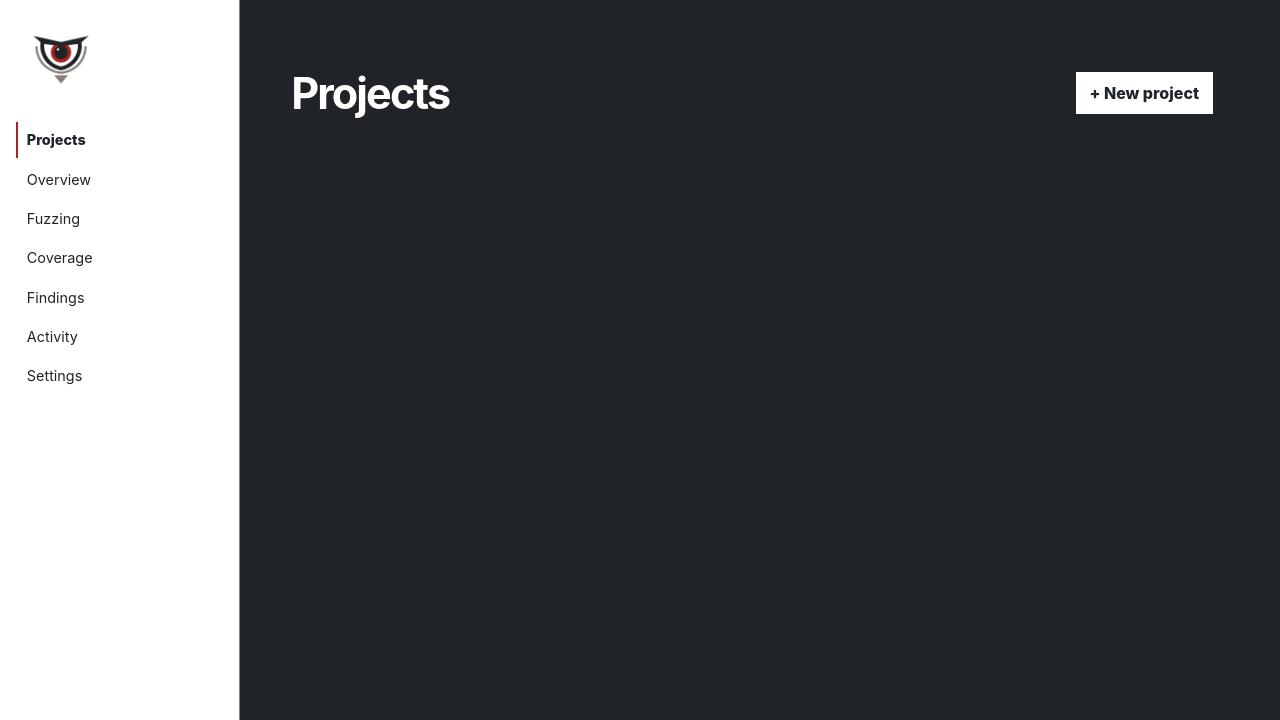
Test: App › submits a valid repository revision and positive worker count, then opens overview
Click the button "+ New project" at coordinates (1144, 93), box [1076,72,1213,114]
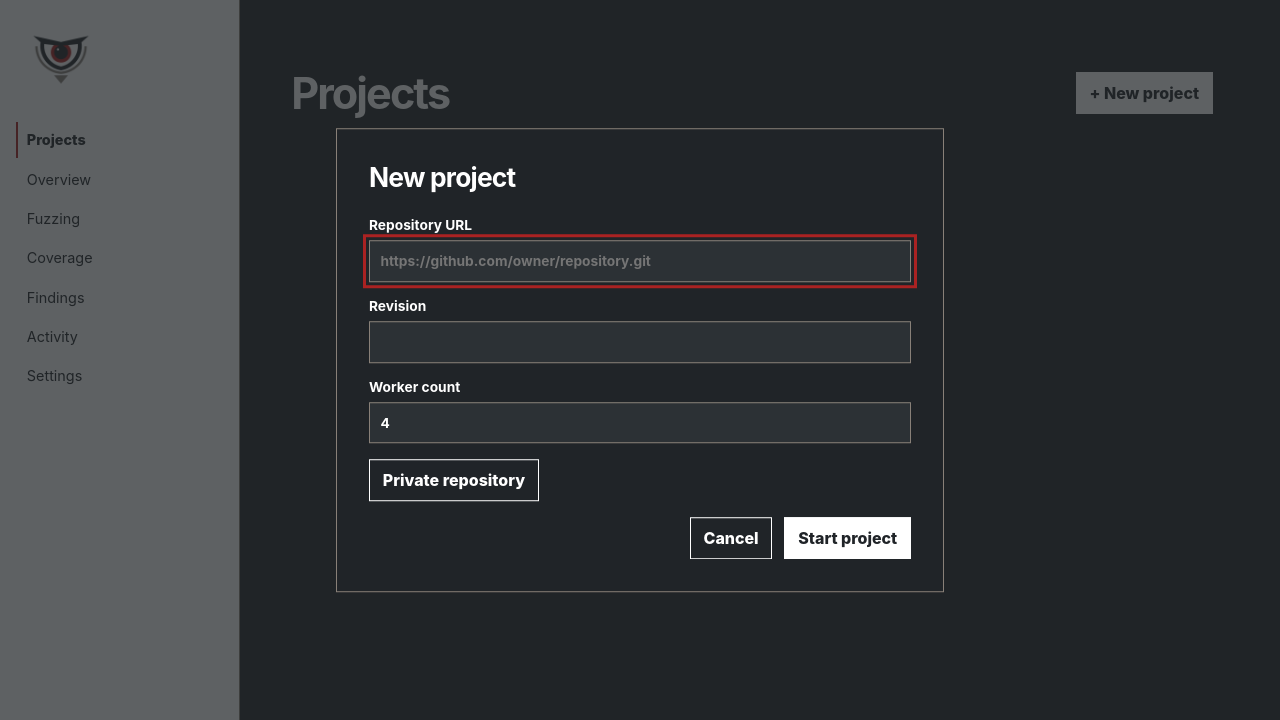
Type "https://github.com/example/target.git" into the field labelled "Repository URL" at coordinates (640, 261), box [369,240,911,282]
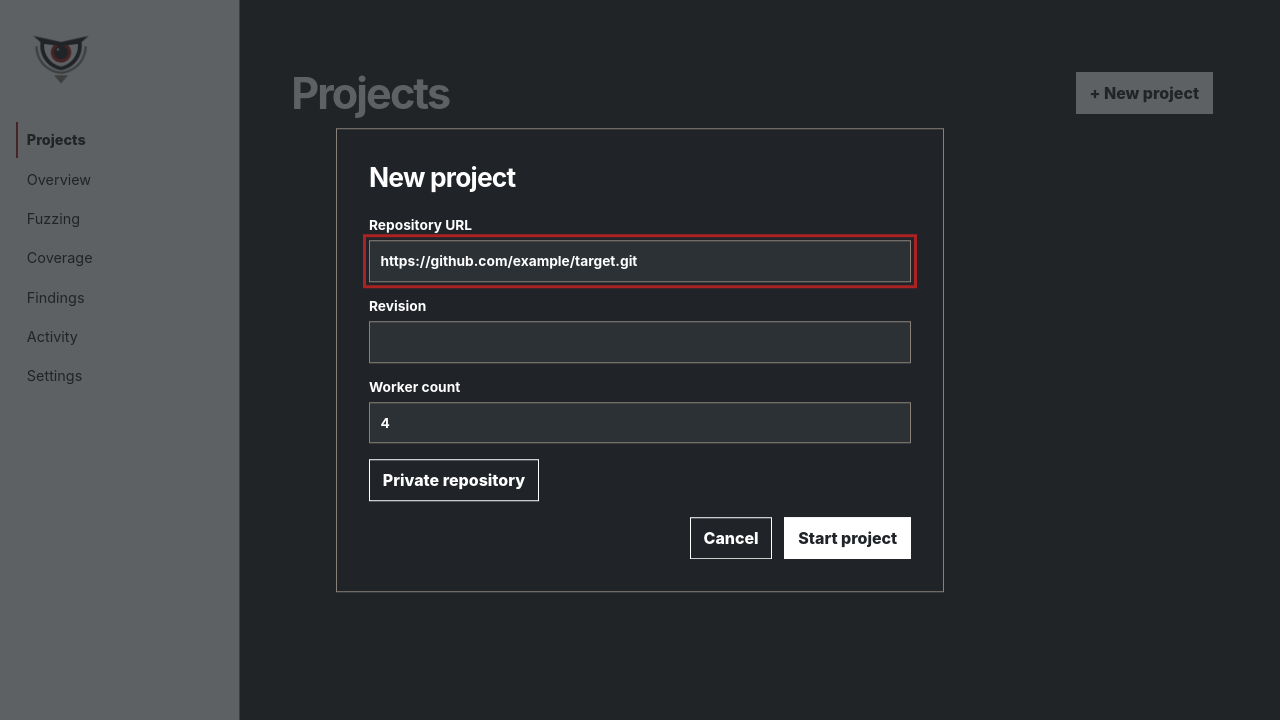
Type "stable" into the field labelled "Revision" at coordinates (640, 342), box [369,321,911,363]
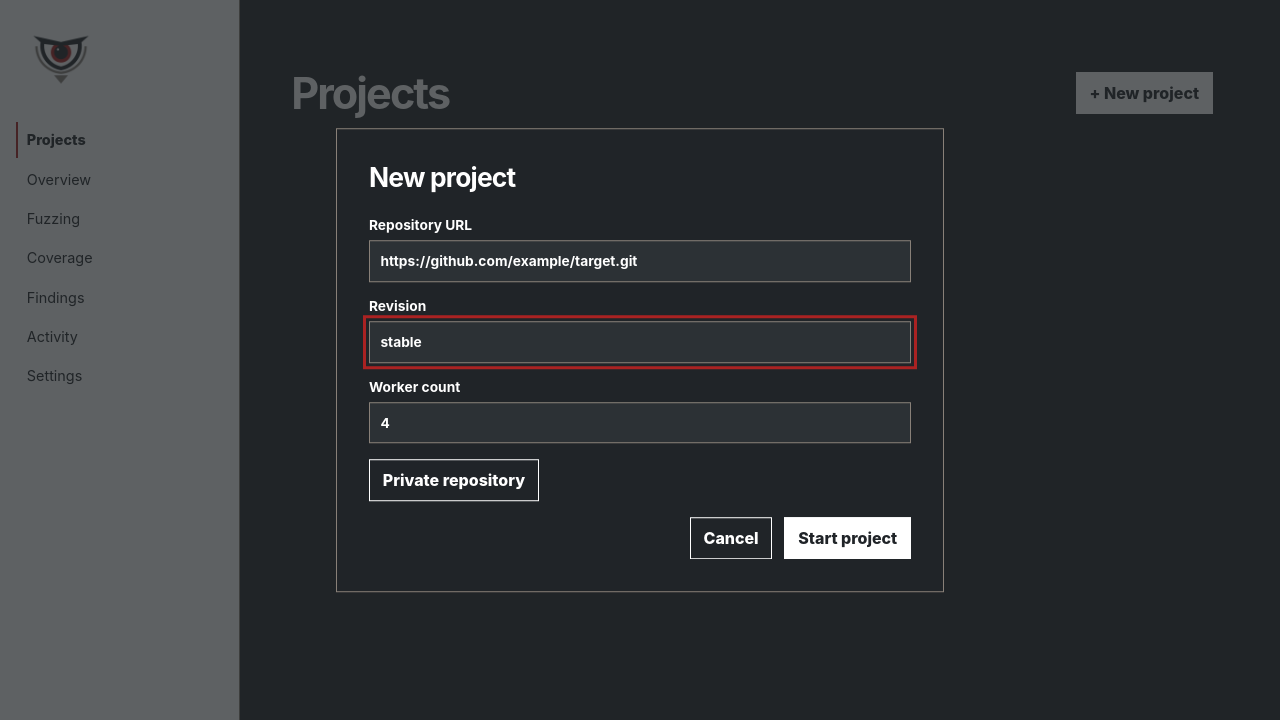
Now the number field labelled "Worker count" holds "4", box [369,402,911,444]
Click the button "Start project" at coordinates (848, 538), box [784,517,911,559]
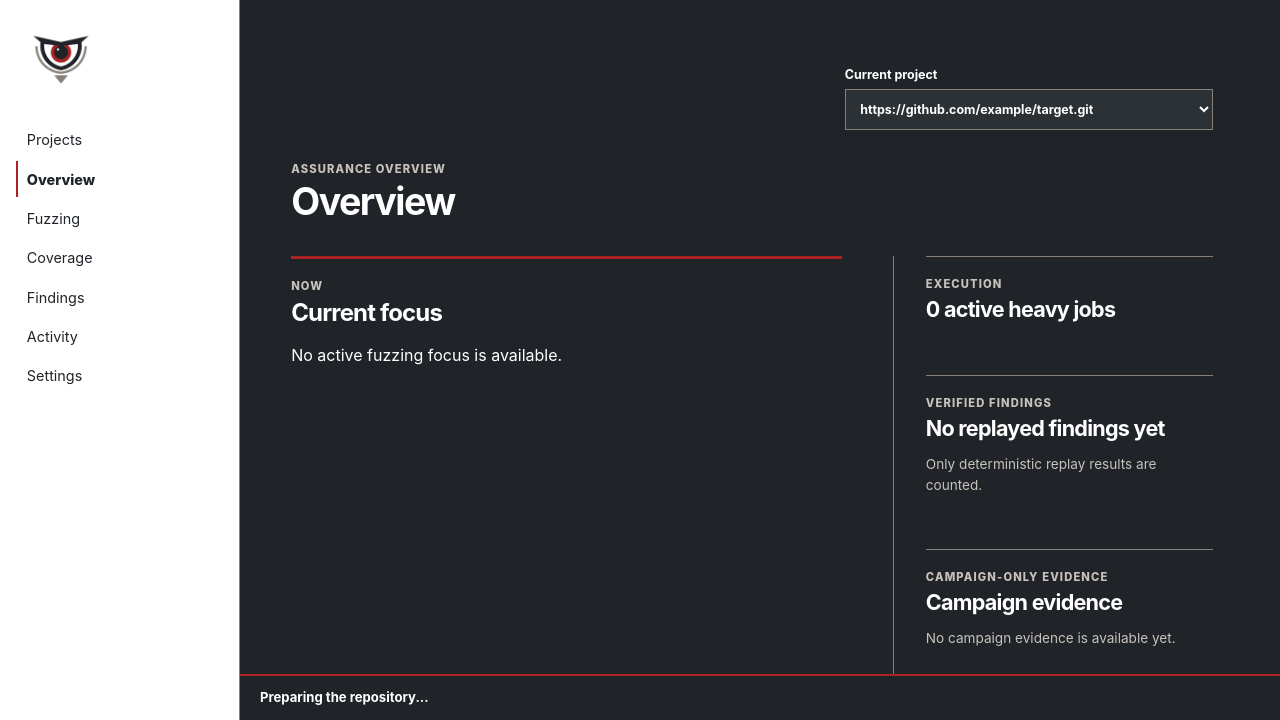
Now the heading "Overview" is shown, box [291,179,455,224]
